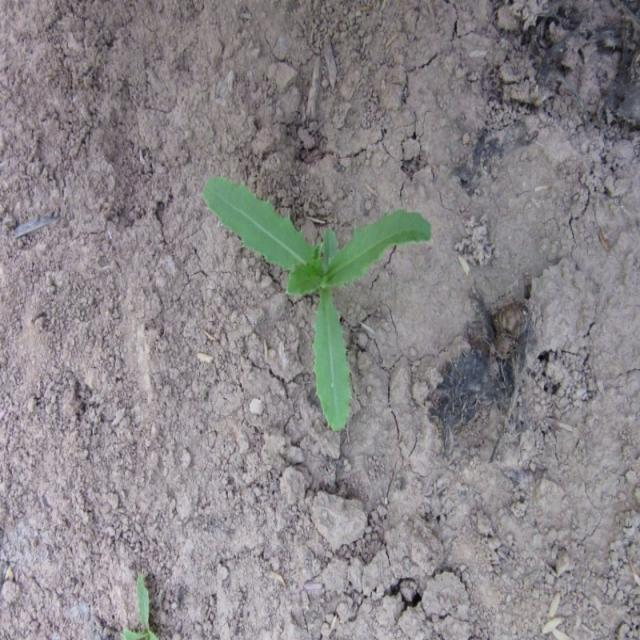cs: (202, 169, 435, 441)
